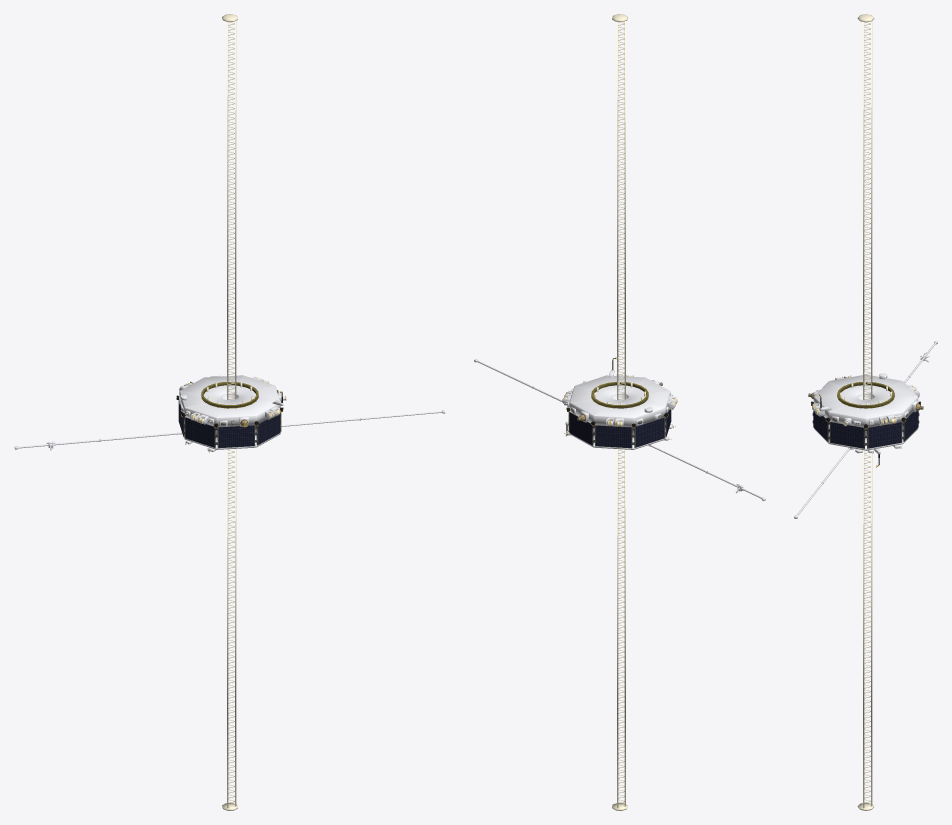
Rendered from MMS.gltf.
3 renders of one model, left to right at view 1: azimuth 30°, elevation 25°; view 2: azimuth 150°, elevation 25°; view 3: azimuth 270°, elevation 25°, orthographic.
Parts seen in each view (by area): view 1: BUS, ADP_top, ADP_bottom, Solar_array; view 2: BUS, ADP_top, ADP_bottom, Solar_array; view 3: BUS, ADP_top, ADP_bottom, Solar_array, Thrust_tube_gold.
Part boxes in pixels (<box>): BUS: <box>179,375,283,451</box>; ADP_top: <box>222,14,237,399</box>; ADP_bottom: <box>222,449,237,810</box>; Solar_array: <box>178,400,281,448</box>; BUS: <box>563,370,676,449</box>; ADP_top: <box>612,14,627,400</box>; ADP_bottom: <box>612,449,627,810</box>; Solar_array: <box>568,409,671,448</box>; BUS: <box>812,374,919,454</box>; ADP_top: <box>857,14,874,399</box>; ADP_bottom: <box>857,450,874,810</box>; Solar_array: <box>812,410,919,448</box>; Thrust_tube_gold: <box>837,382,894,408</box>.
Bounding box in the file's own units: 12.49 × 26.25 × 4.31.
Materials: 8 (2 with a texture image).
